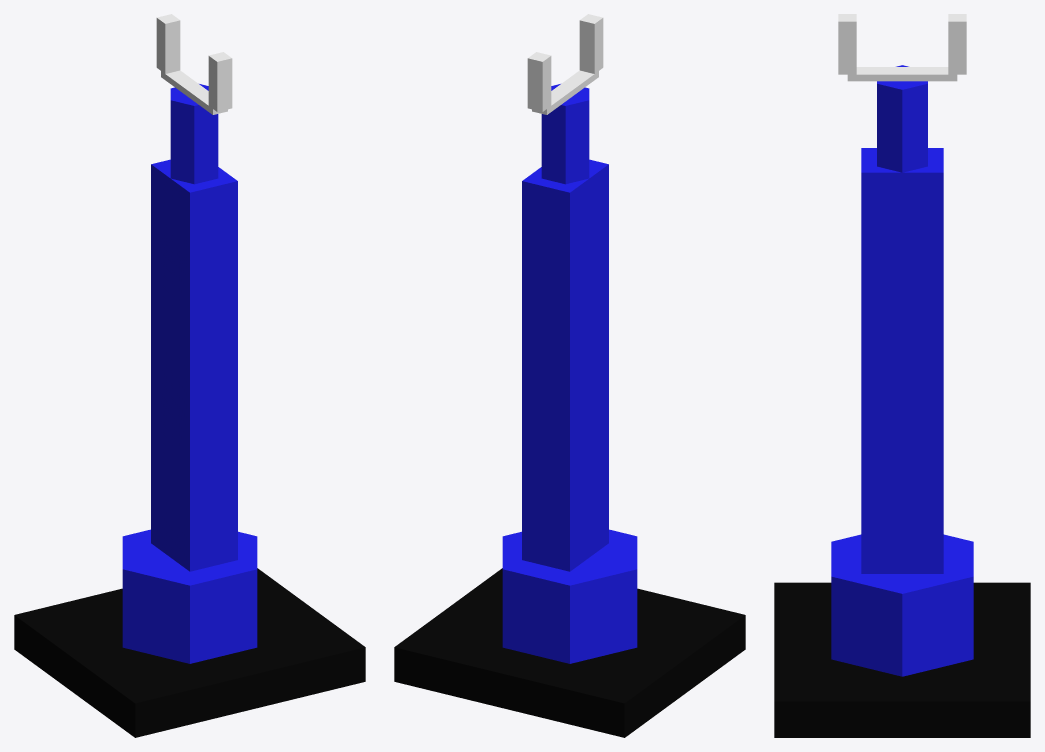
Rendered from xarm.dae.
3 views of the same model, side by side, from view 1: azimuth 30°, elevation 25°; view 2: azimuth 150°, elevation 25°; view 3: azimuth 270°, elevation 25° (orthographic). The views are drawn at different scales.
Visible parts, largest first — view 1: base_link, arm_link1, arm_link2, arm_link3, arm_link4, arm_link5, left_gripper, right_gripper, gripper_link; view 2: base_link, arm_link1, arm_link2, arm_link3, arm_link4, arm_link5, left_gripper, right_gripper, gripper_link; view 3: base_link, arm_link1, arm_link2, arm_link3, arm_link4, arm_link5, gripper_link, left_gripper, right_gripper.
Part boxes in pixels (<box>): base_link: <box>14,568,365,737</box>; arm_link1: <box>122,529,257,663</box>; arm_link2: <box>151,393,237,571</box>; arm_link3: <box>151,243,237,421</box>; arm_link4: <box>151,159,237,270</box>; arm_link5: <box>170,84,218,184</box>; left_gripper: <box>208,52,232,111</box>; right_gripper: <box>156,14,180,73</box>; gripper_link: <box>161,70,227,114</box>; base_link: <box>394,568,745,737</box>; arm_link1: <box>502,529,637,663</box>; arm_link2: <box>522,393,608,571</box>; arm_link3: <box>522,243,608,421</box>; arm_link4: <box>522,159,608,270</box>; arm_link5: <box>541,84,589,184</box>; left_gripper: <box>579,14,603,73</box>; right_gripper: <box>527,52,551,111</box>; gripper_link: <box>532,70,598,114</box>; base_link: <box>774,582,1030,737</box>; arm_link1: <box>831,534,973,676</box>; arm_link2: <box>861,414,943,573</box>; arm_link3: <box>861,255,943,414</box>; arm_link4: <box>861,148,943,255</box>; arm_link5: <box>877,65,927,172</box>; gripper_link: <box>847,67,957,81</box>; left_gripper: <box>838,14,856,74</box>; right_gripper: <box>948,14,966,74</box>.
Bounding box in the file's own units: 0.154 × 0.14 × 0.4.
